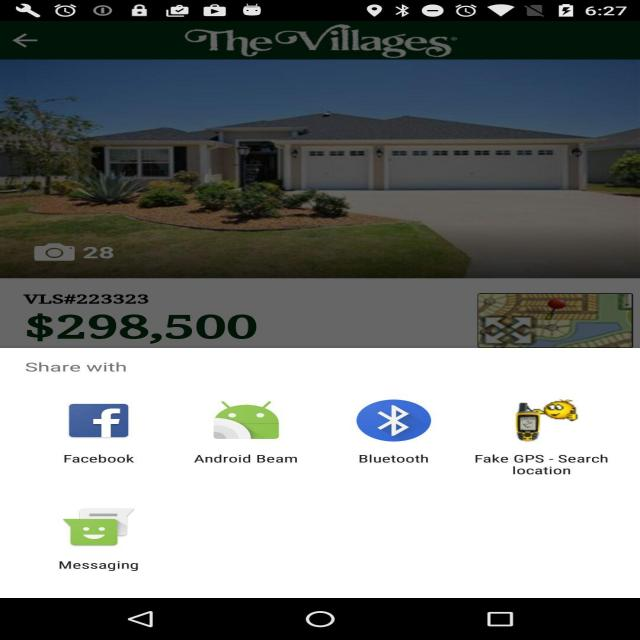icon: (478, 396, 634, 486), (30, 401, 172, 472), (333, 393, 452, 477), (40, 499, 160, 581), (194, 393, 306, 474)
text: (19, 354, 155, 381)
